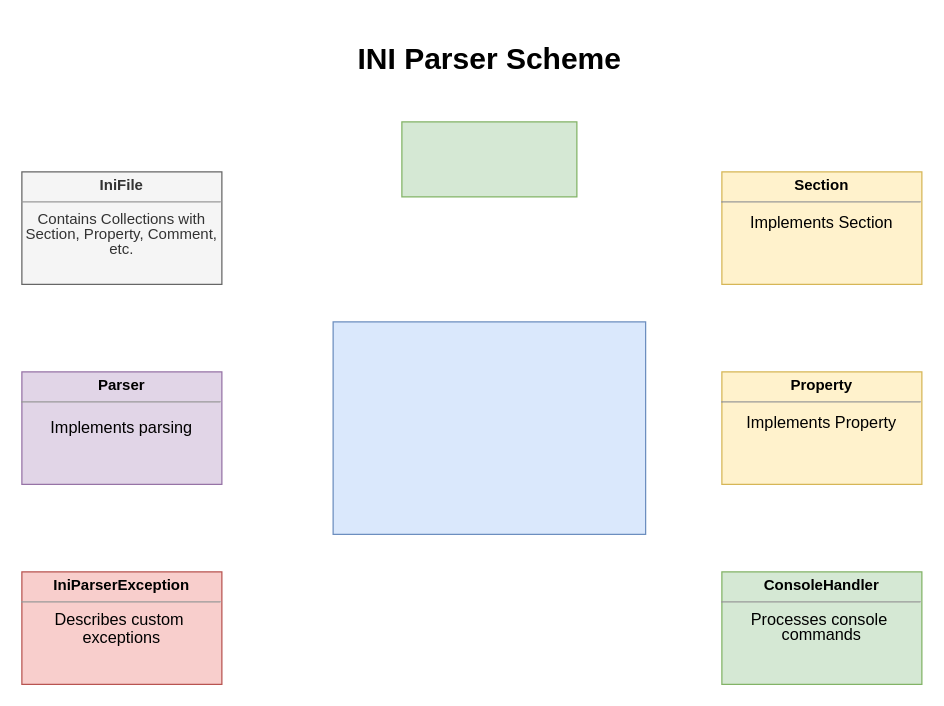
Some shapes in this 944 by 706 pixel diagram are drawn without their labels. Each missing label, with the box of its shape:
Handler Processes data: (332, 321, 646, 534)
Program Main Program: (401, 121, 577, 197)
